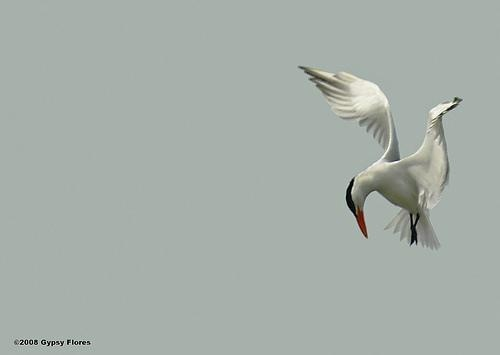bird: (289, 63, 463, 251)
